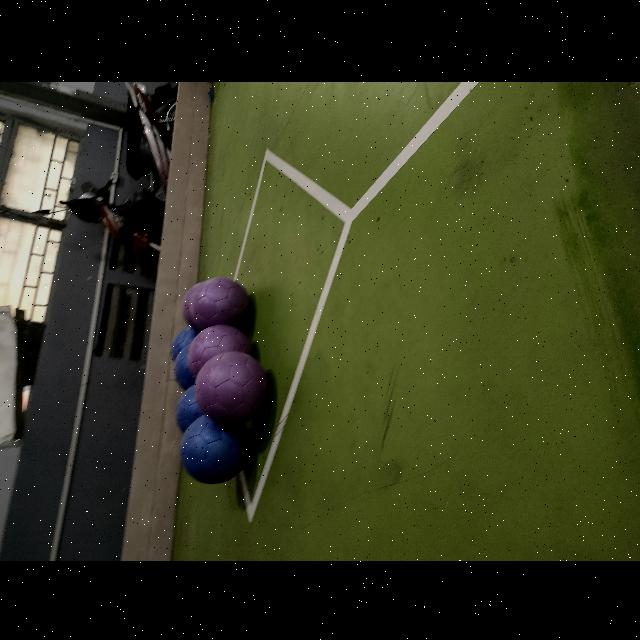B: (180, 414, 250, 482), (177, 385, 226, 433), (174, 346, 222, 394), (171, 326, 199, 360)
P: (196, 350, 268, 424), (190, 326, 254, 382), (192, 276, 250, 328)
